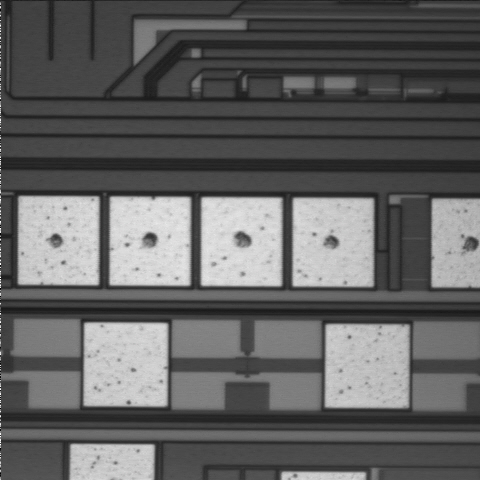pad: (201, 198, 282, 286), (19, 197, 99, 285), (110, 197, 190, 285), (293, 198, 373, 286), (84, 323, 167, 406), (326, 325, 408, 407)
